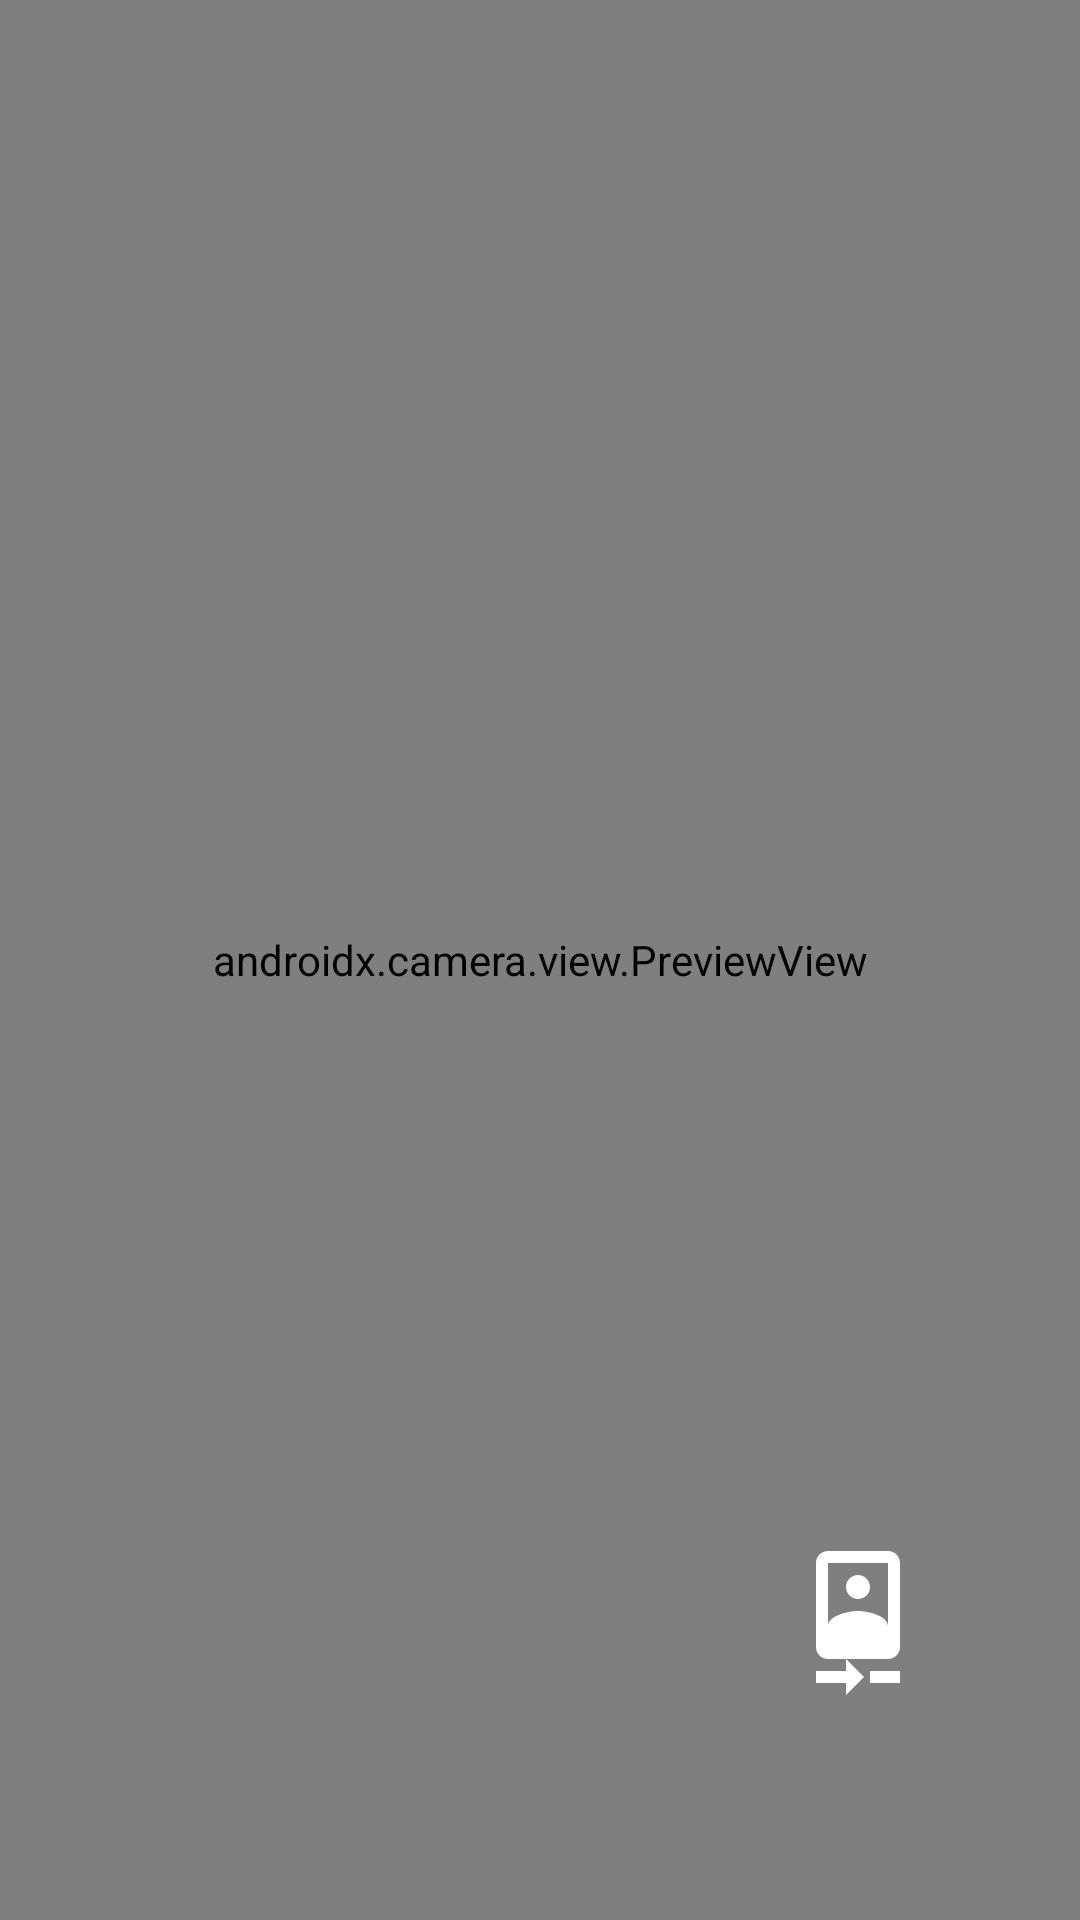

Locate icon controls on the screen. Image size 1080×1920, boxes as (x1,y1,x2,y2).
camera front: (816,1551,900,1695)
